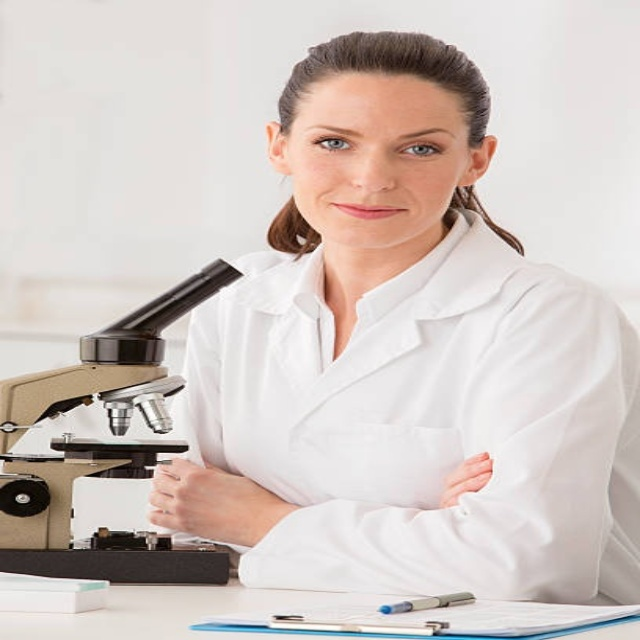Sin_gafas: (301, 116, 460, 168)
Sin_guantes: (148, 455, 267, 545), (440, 450, 494, 507)
Sin_mascara: (315, 191, 422, 233)
